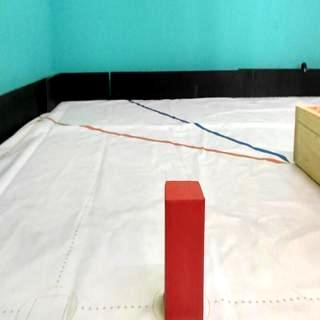redbox: (165, 180, 204, 320)
